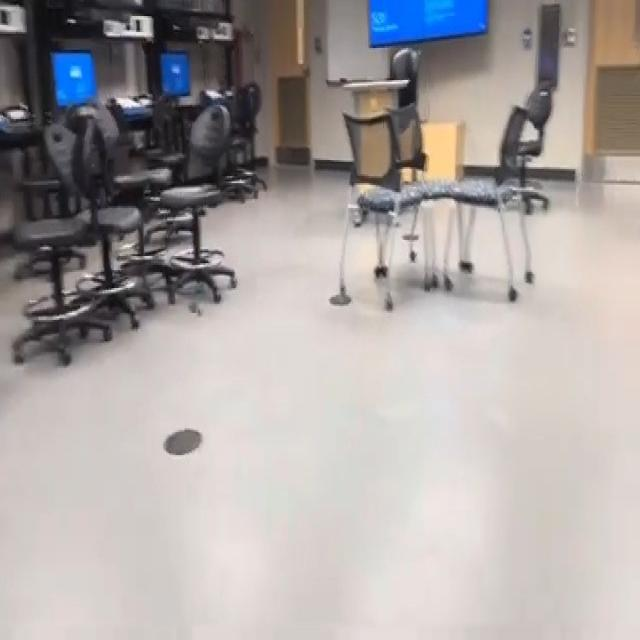drone: (182, 287, 212, 331)
